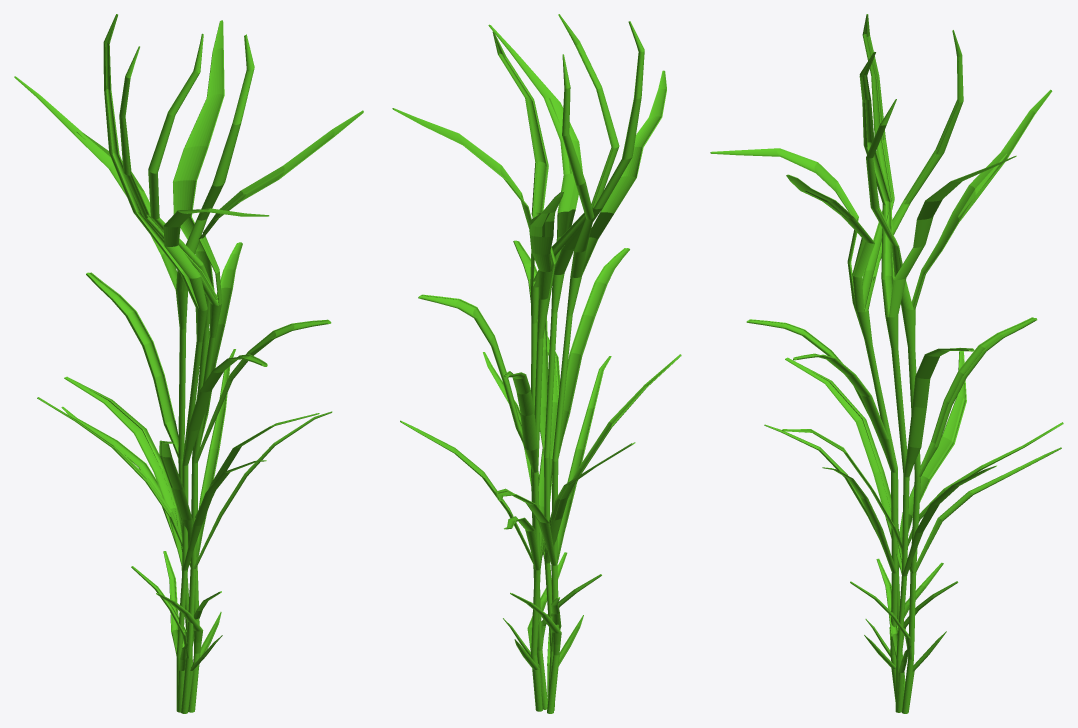
The model's file is rice1.fbx.
The picture shows the model from 3 angles, left to right: view 1: azimuth 30°, elevation 25°; view 2: azimuth 150°, elevation 25°; view 3: azimuth 270°, elevation 25°; orthographic projection. The views are drawn at different scales.
Parts seen in each view (by area): view 1: rice stage 1; view 2: rice stage 1; view 3: rice stage 1.
Boxes of the visible parts, x1,y1,x2,y2 form: rice stage 1: (14,14,363,713); rice stage 1: (392,14,681,713); rice stage 1: (710,14,1063,713).
Size of the model in its own units: 15.46 by 43.3 by 20.84.
